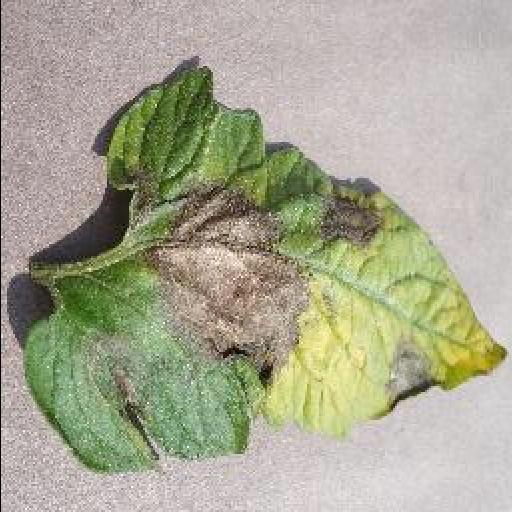disease_tomato: (20, 62, 510, 478)
